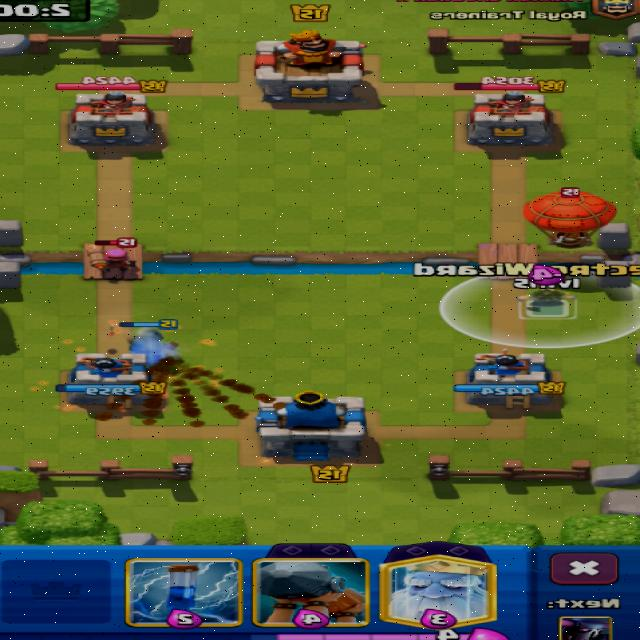Enemy-Balloon: (526, 188, 616, 247)
Enemy-Firecracker: (85, 248, 141, 273)
Enemy-KingTower: (256, 30, 364, 105)
Enemy-PrincessTower: (469, 92, 554, 146), (71, 92, 154, 146)
Player-Bandit: (131, 329, 177, 366)
Player-KingTower-Activated: (257, 390, 367, 460)
Player-PrincessTower: (455, 349, 565, 408), (58, 354, 166, 404)
